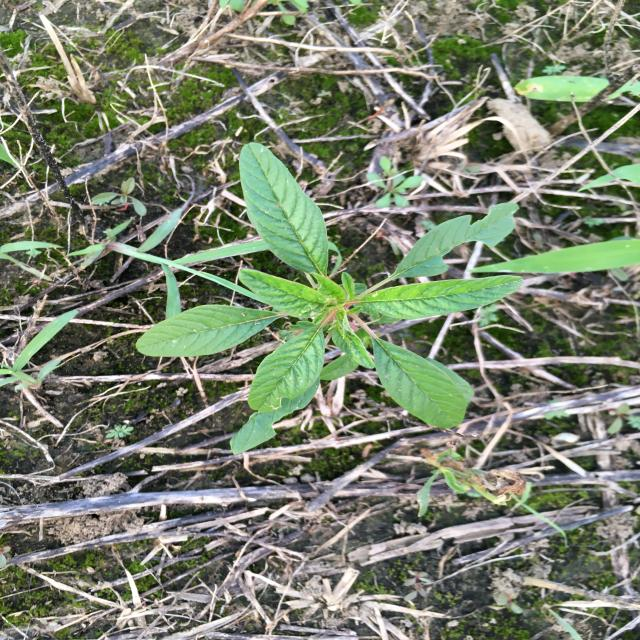Carpetweed: (365, 155, 428, 212)
Waterhemp: (132, 141, 528, 456)
